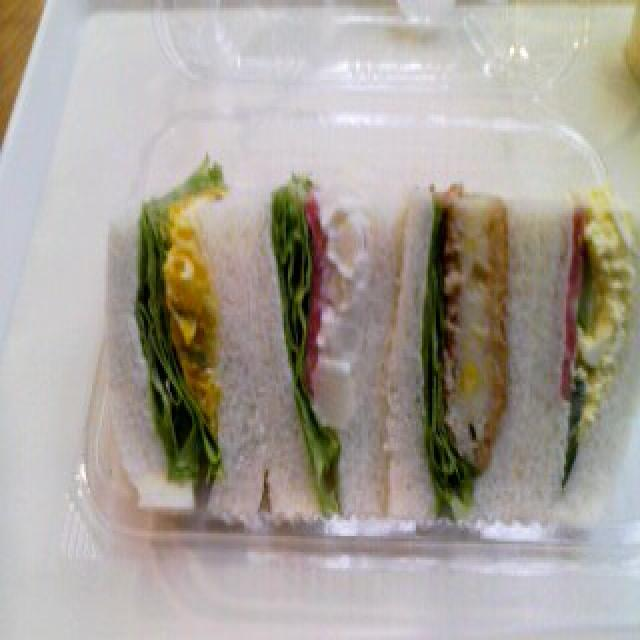三明治: (108, 149, 640, 539)
